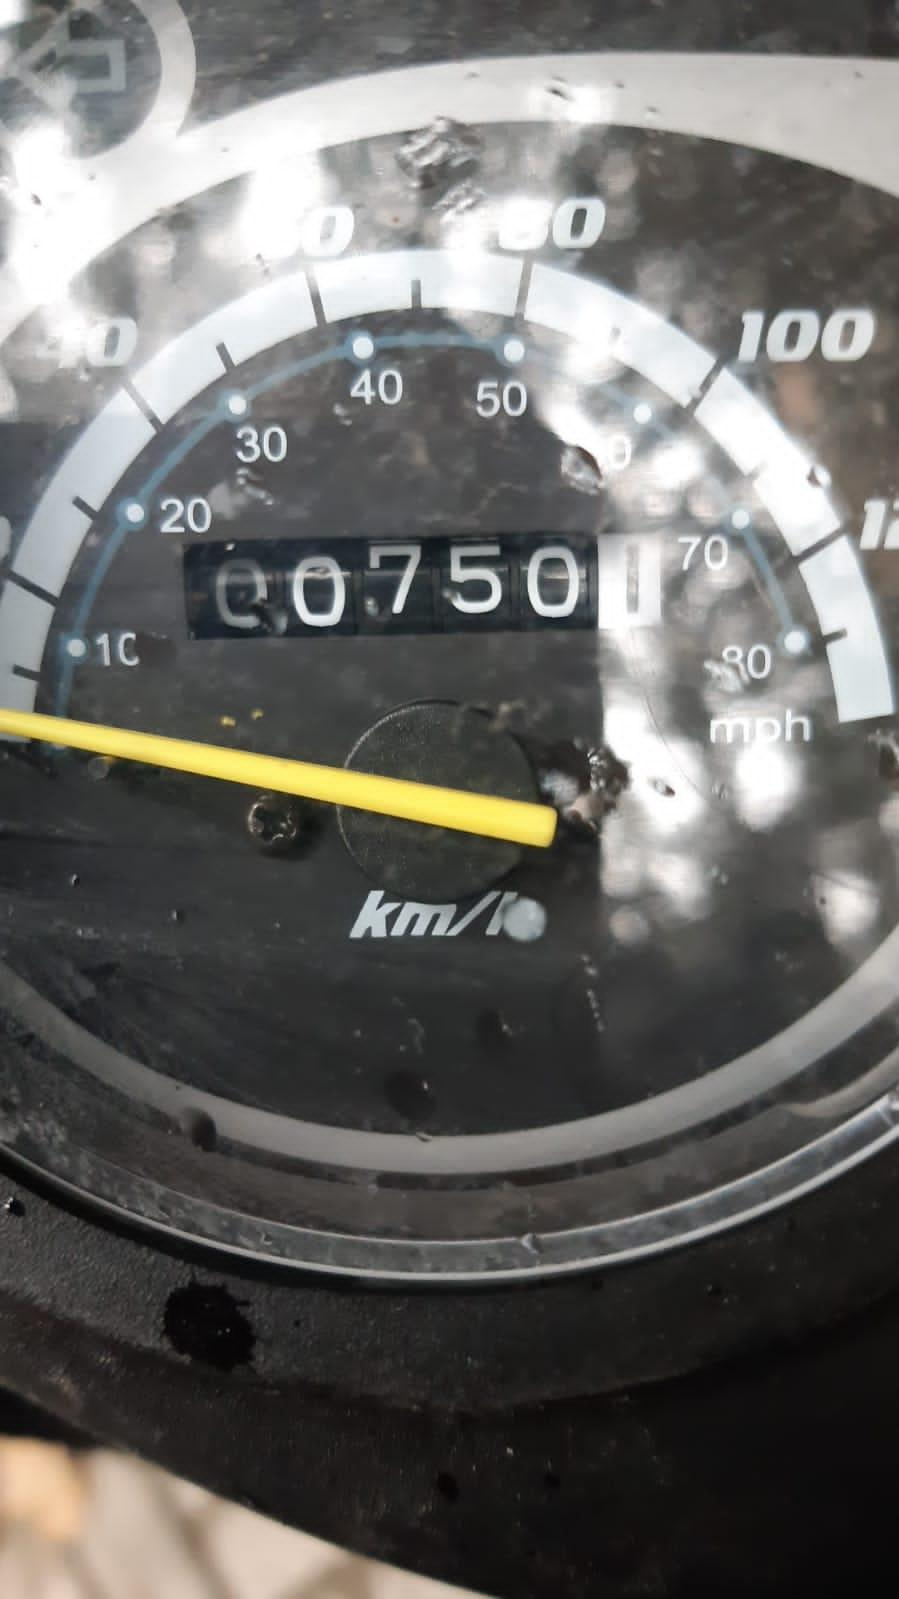0: (286, 549, 350, 629), (522, 539, 583, 620), (212, 552, 270, 631)
1: (614, 537, 648, 617)
5: (445, 540, 507, 619)
7: (362, 540, 427, 618)
odometer: (168, 521, 672, 642)
